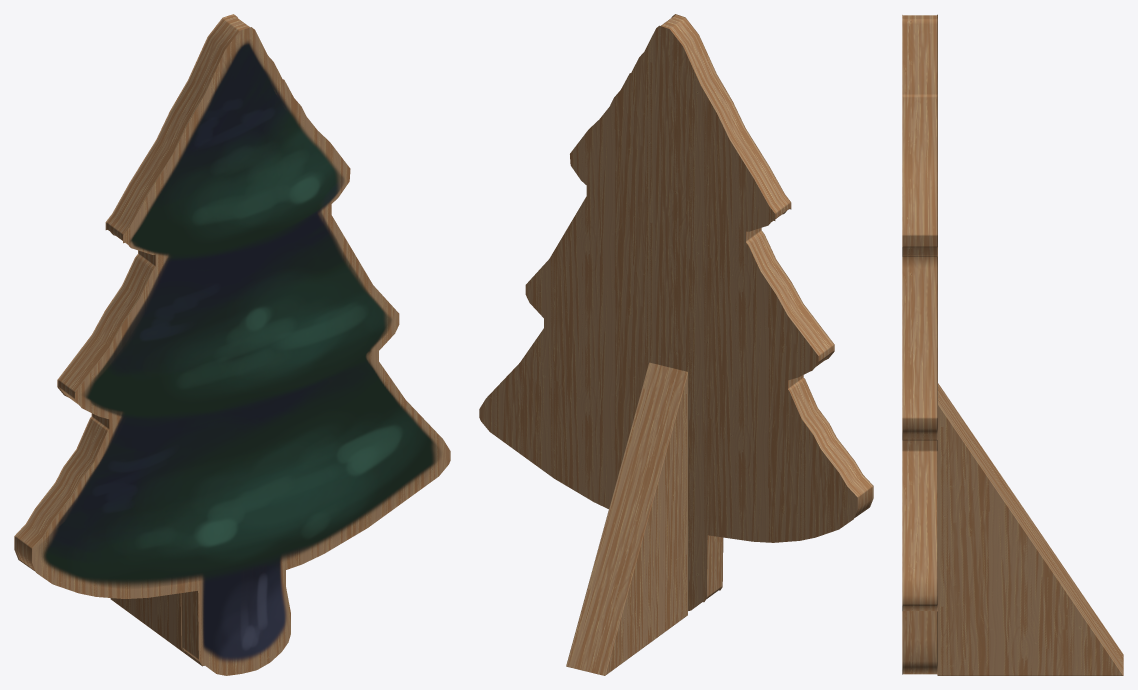
Rendered from pine.glb.
3 views of the same model, side by side, from view 1: azimuth 30°, elevation 25°; view 2: azimuth 150°, elevation 25°; view 3: azimuth 270°, elevation 25° (orthographic). The views are drawn at different scales.
Visible parts, largest first — view 1: pine_Block, pine_RearBrace; view 2: pine_Block, pine_RearBrace; view 3: pine_RearBrace, pine_Block.
Part boxes in pixels (x1=…): pine_Block: x1=14, y1=14, x2=450, y2=675; pine_RearBrace: x1=110, y1=593, x2=204, y2=666; pine_Block: x1=479, y1=14, x2=873, y2=610; pine_RearBrace: x1=566, y1=362, x2=687, y2=675; pine_RearBrace: x1=937, y1=383, x2=1123, y2=675; pine_Block: x1=902, y1=14, x2=937, y2=674.
Size of the model in its own units: 3.08 by 4.54 by 1.4.
1 material, 1 textured.
